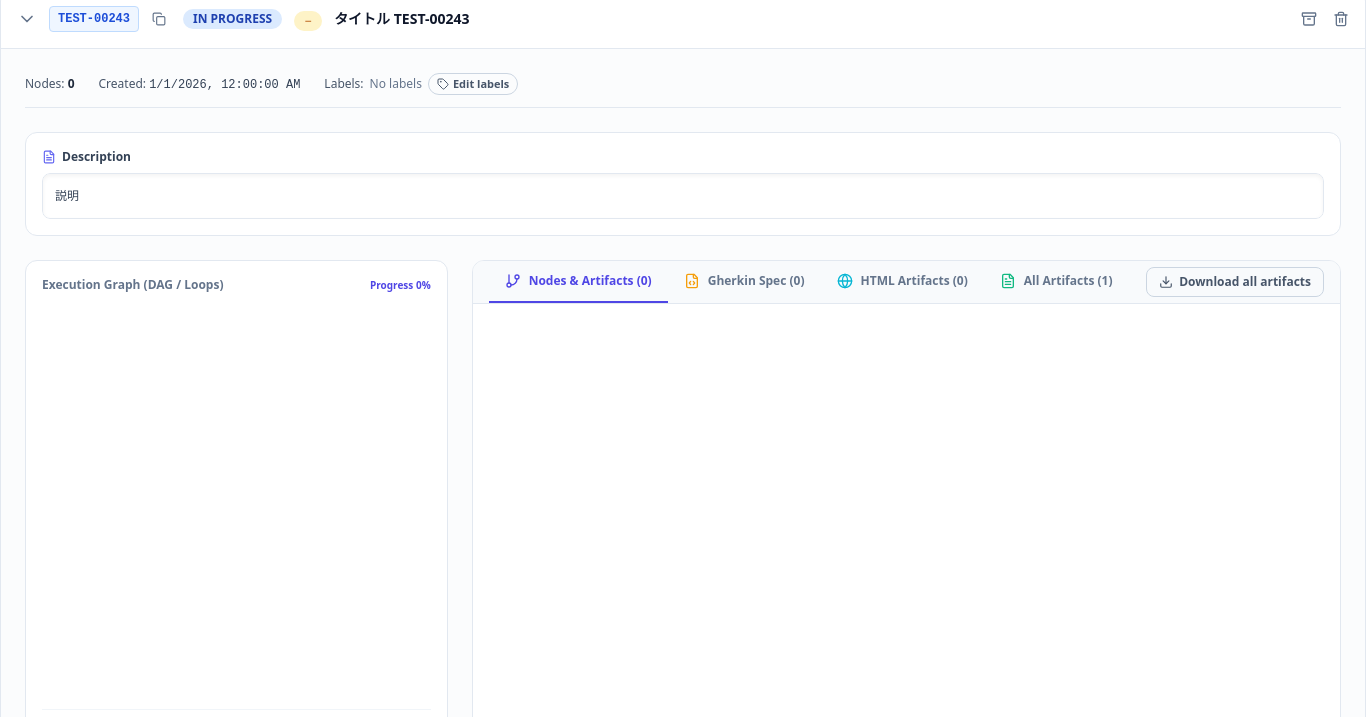
Test: TicketItem artifact tabs ARIA structure › moves aria-selected and aria-labelledby with a click
The image size is (1366, 717).
Click the tab "HTML Artifacts (0)": click(902, 282) x1=820 y1=260 x2=984 y2=302
(page scrolled)
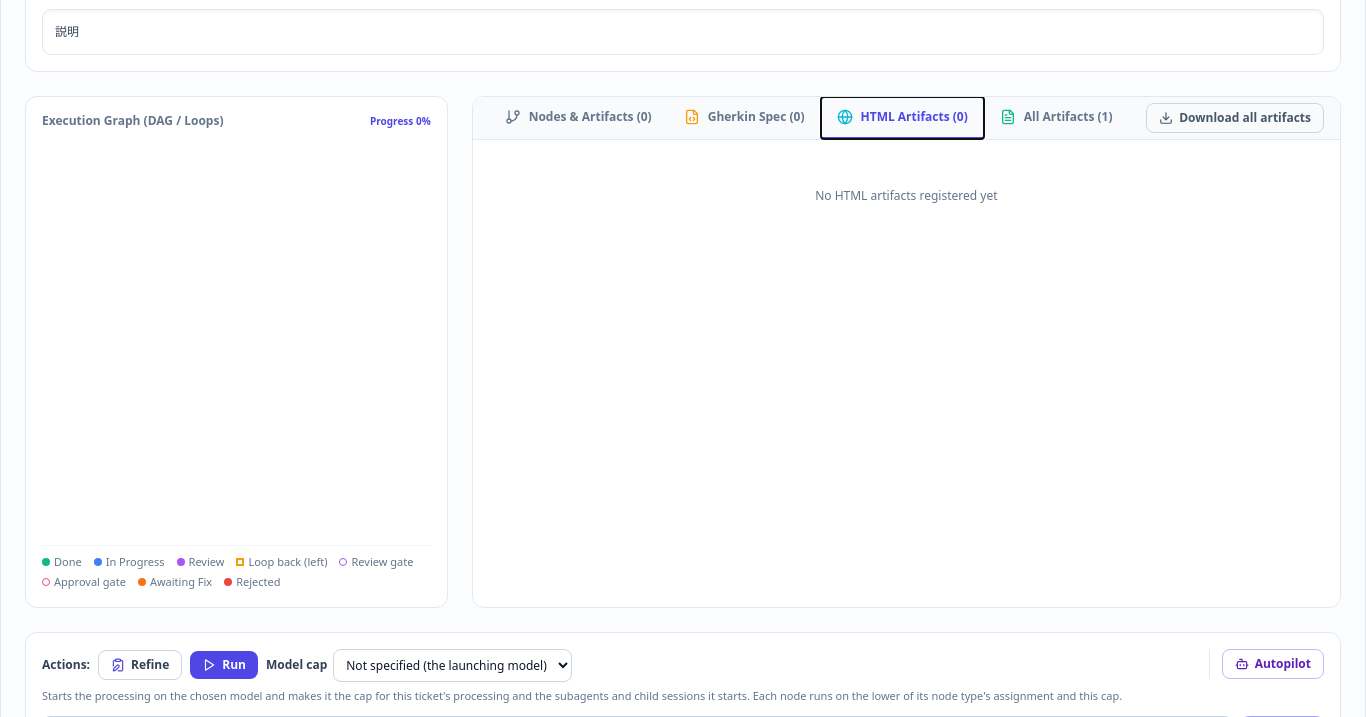
Expected: the panel reads "No HTML artifacts registered yet", x1=815 y1=186 x2=998 y2=204
